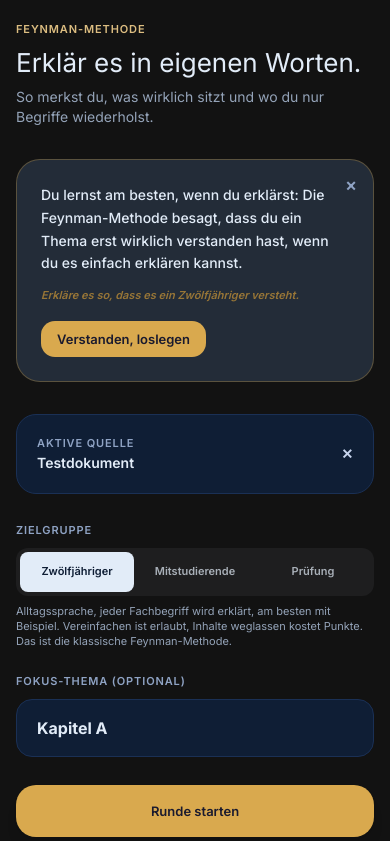
Test: ActiveRecall — Feynman-Workflow-Bug: Fix 1 (Nächster Drill) + Fix 2 (Leseforschritt-Grenze) › Test A: „Nächster Drill" startet automatisch eine neue Challenge, ohne zur Quellenauswahl zurückzuspringen
Click the button "Runde starten". click: (195, 811)
box: [16, 785, 374, 837]
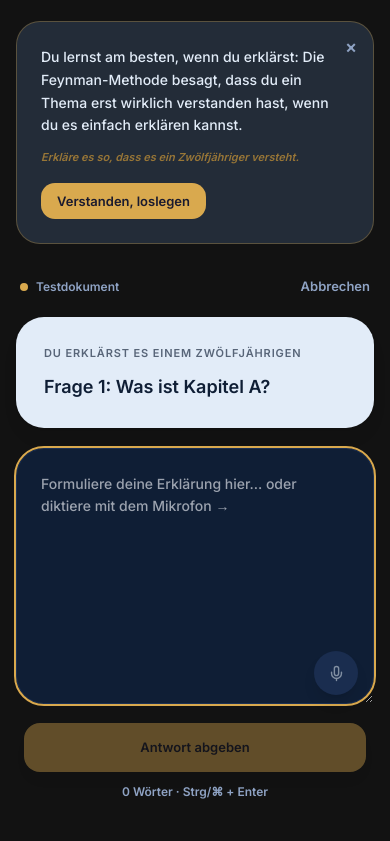
Now the text "Frage 1: Was ist Kapitel A?" is shown, box [44, 376, 270, 397]
Replace the text in the text box with placeholder "Formuliere deine Erklärung hier... oder diktiere mit dem Mikrofon →" with "Eine ausreichend lange Testantwort für die Bewertung.". click: (195, 576)
box: [16, 448, 374, 704]
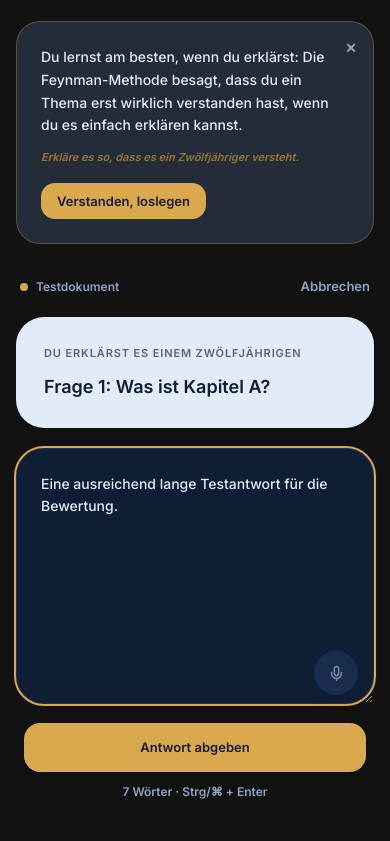
Click the button "Antwort abgeben". click: (195, 748)
box: [24, 723, 366, 772]
(page scrolled)
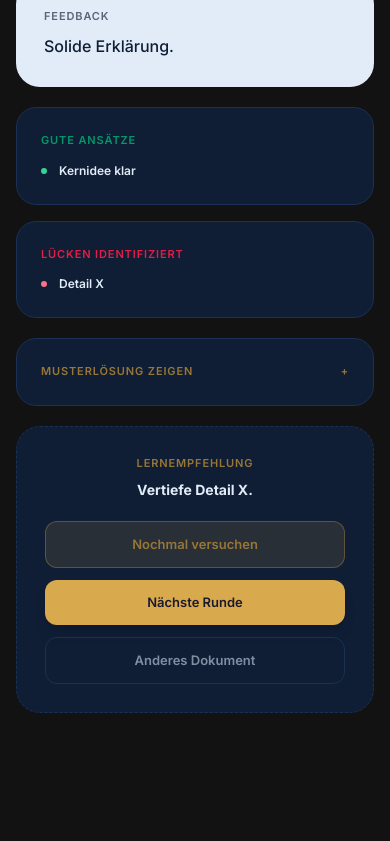
Click the button "Nächste Runde". click: (195, 602)
box: [45, 580, 345, 625]
(page scrolled)
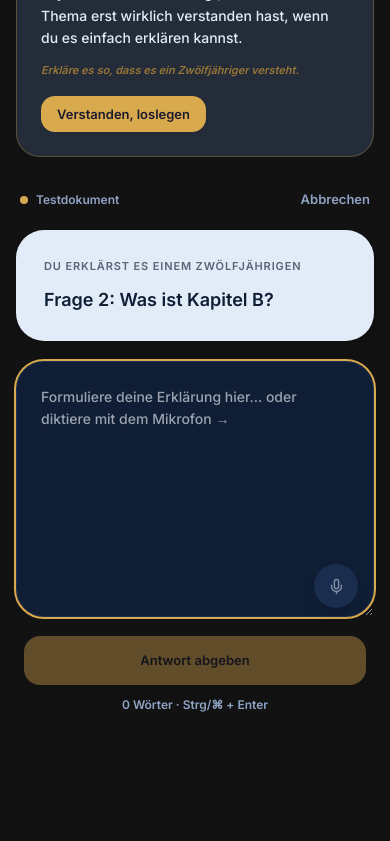
Expected: the text "Testdokument" is shown, [36, 192, 119, 208]
Now the text "Frage 2: Was ist Kapitel B?" is shown, box [44, 289, 274, 310]
